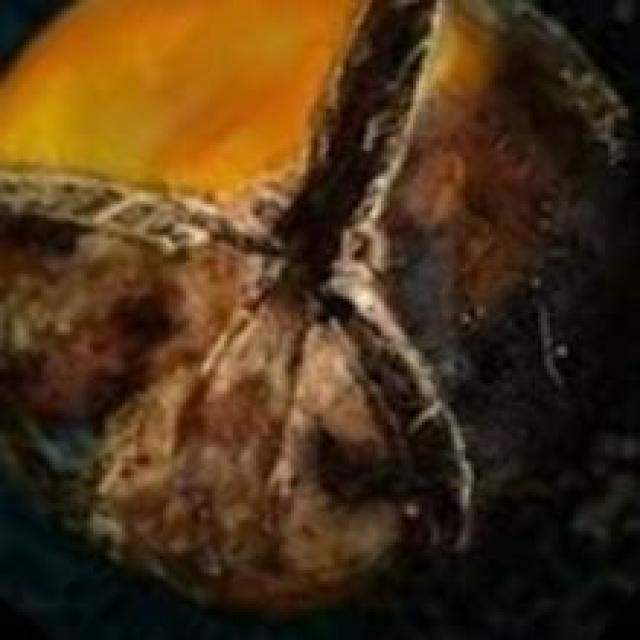damaged: (0, 0, 634, 612)
